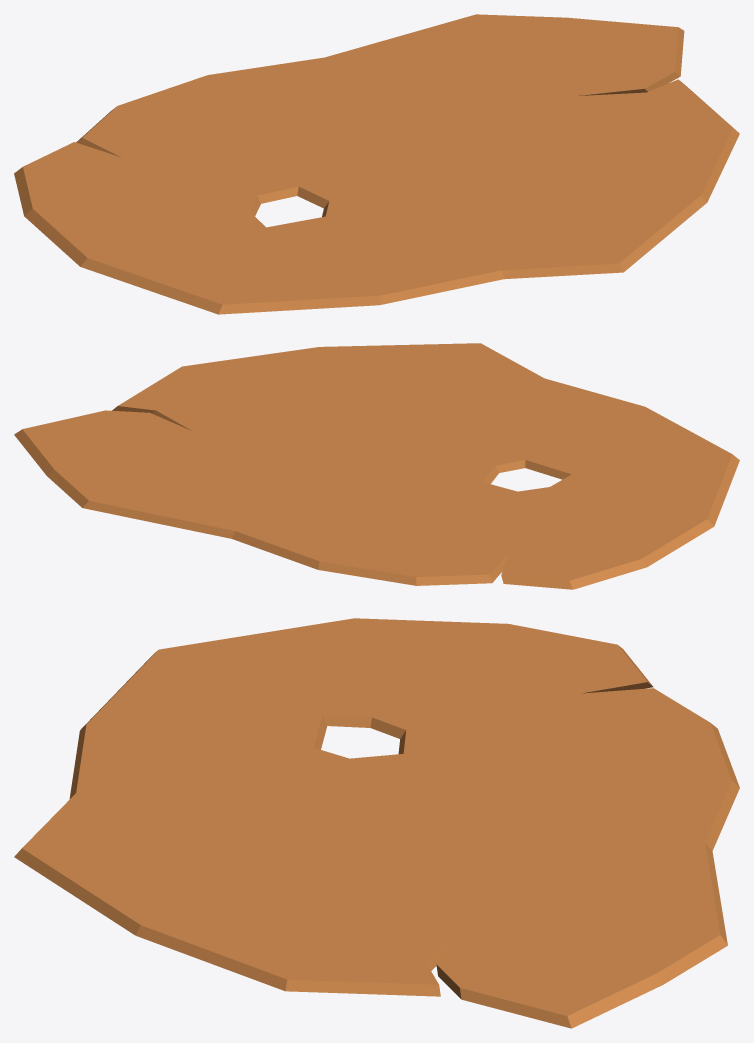
Rendered from RockThin_2.fbx.
3 renders of one model, top to bottom at view 1: azimuth 30°, elevation 25°; view 2: azimuth 150°, elevation 25°; view 3: azimuth 270°, elevation 25°, orthographic. The views are drawn at different scales.
Parts seen in each view (by area): view 1: 平面.055; view 2: 平面.055; view 3: 平面.055.
Boxes of the visible parts, left/top/right/bottom form: 平面.055: left=14, top=14, right=739, bottom=314; 平面.055: left=14, top=343, right=739, bottom=589; 平面.055: left=14, top=618, right=739, bottom=1028.
Size of the model in its own units: 1509 by 1138 by 14.06.
